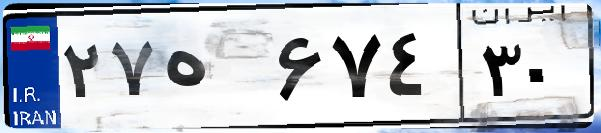0: (525, 38, 570, 115)
2: (57, 26, 110, 100)
3: (475, 38, 525, 113)
4: (385, 28, 445, 110)
6: (270, 28, 330, 110)
7: (330, 28, 385, 110), (110, 28, 158, 98)
ه: (158, 20, 270, 120)
